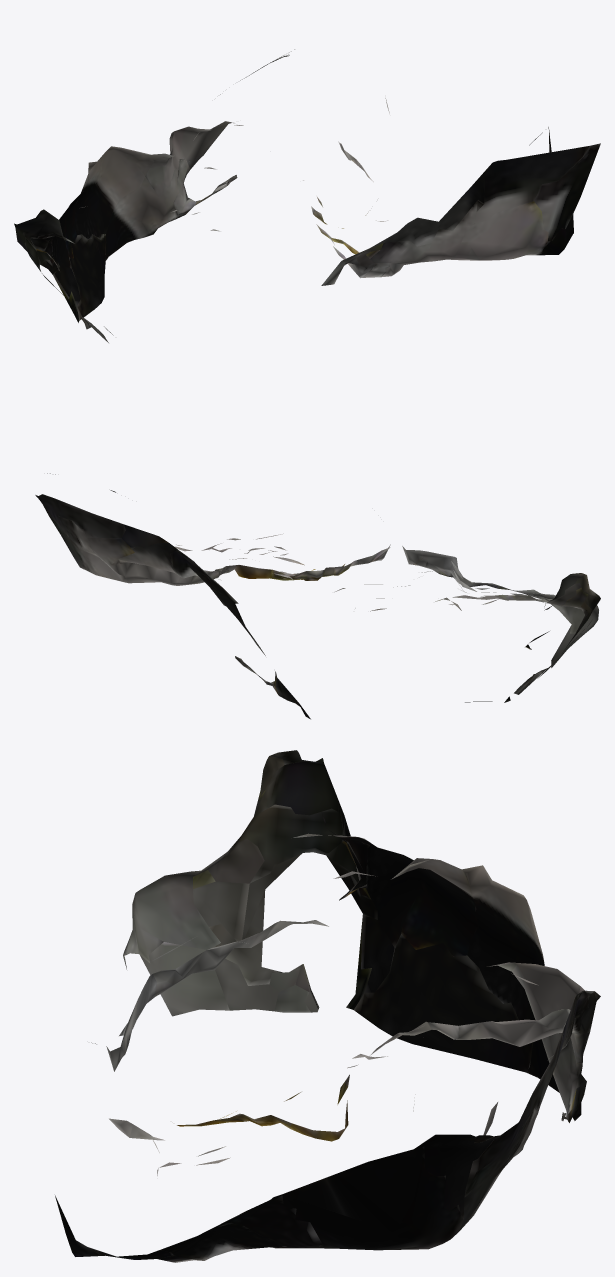
File: hall.glb
The picture shows the model from 3 angles, top to bottom: view 1: azimuth 30°, elevation 25°; view 2: azimuth 150°, elevation 25°; view 3: azimuth 270°, elevation 25°; orthographic projection. The views are drawn at different scales.
Size of the model in its own units: 1.01 by 0.2655 by 0.5758.
1 material, 1 textured.
